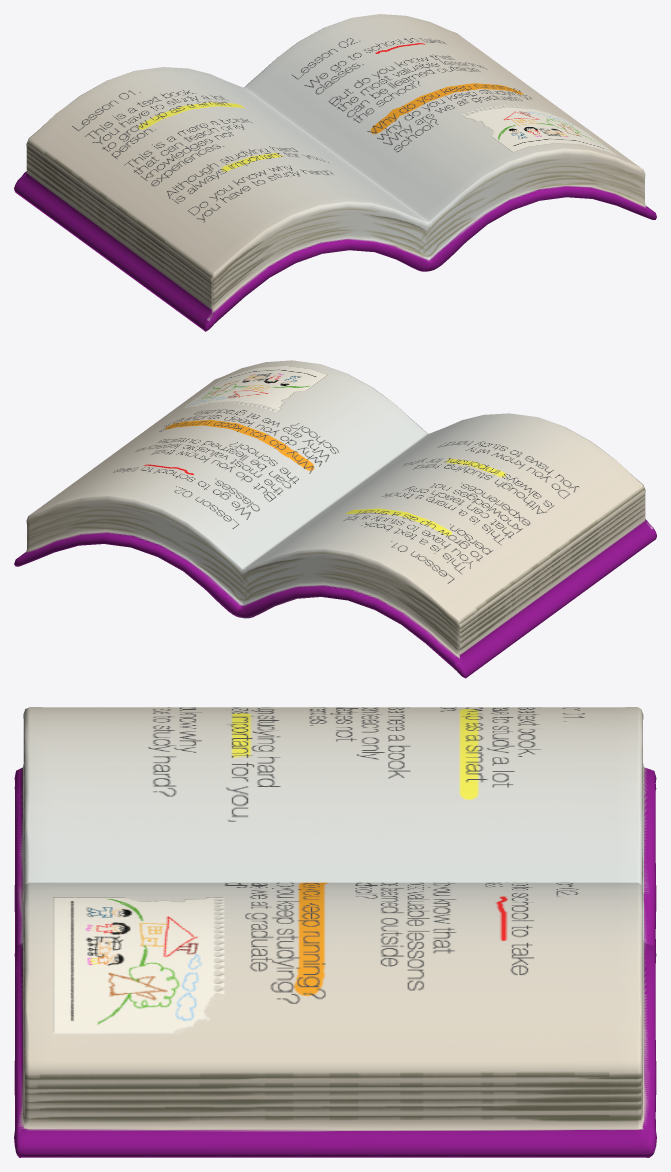
Rendered from item2 - book.fbx.
3 views of the same model, one above another, from view 1: azimuth 30°, elevation 25°; view 2: azimuth 150°, elevation 25°; view 3: azimuth 270°, elevation 25° (orthographic). The views are drawn at different scales.
Visible parts, largest first — view 1: pCube1; view 2: pCube1; view 3: pCube1.
Boxes of the visible parts, left/top/right/bottom form: pCube1: left=14, top=14, right=656, bottom=331; pCube1: left=14, top=360, right=656, bottom=678; pCube1: left=14, top=707, right=656, bottom=1157.
Size of the model in its own units: 8.29 by 1.69 by 6.15.
1 material, 1 textured.
